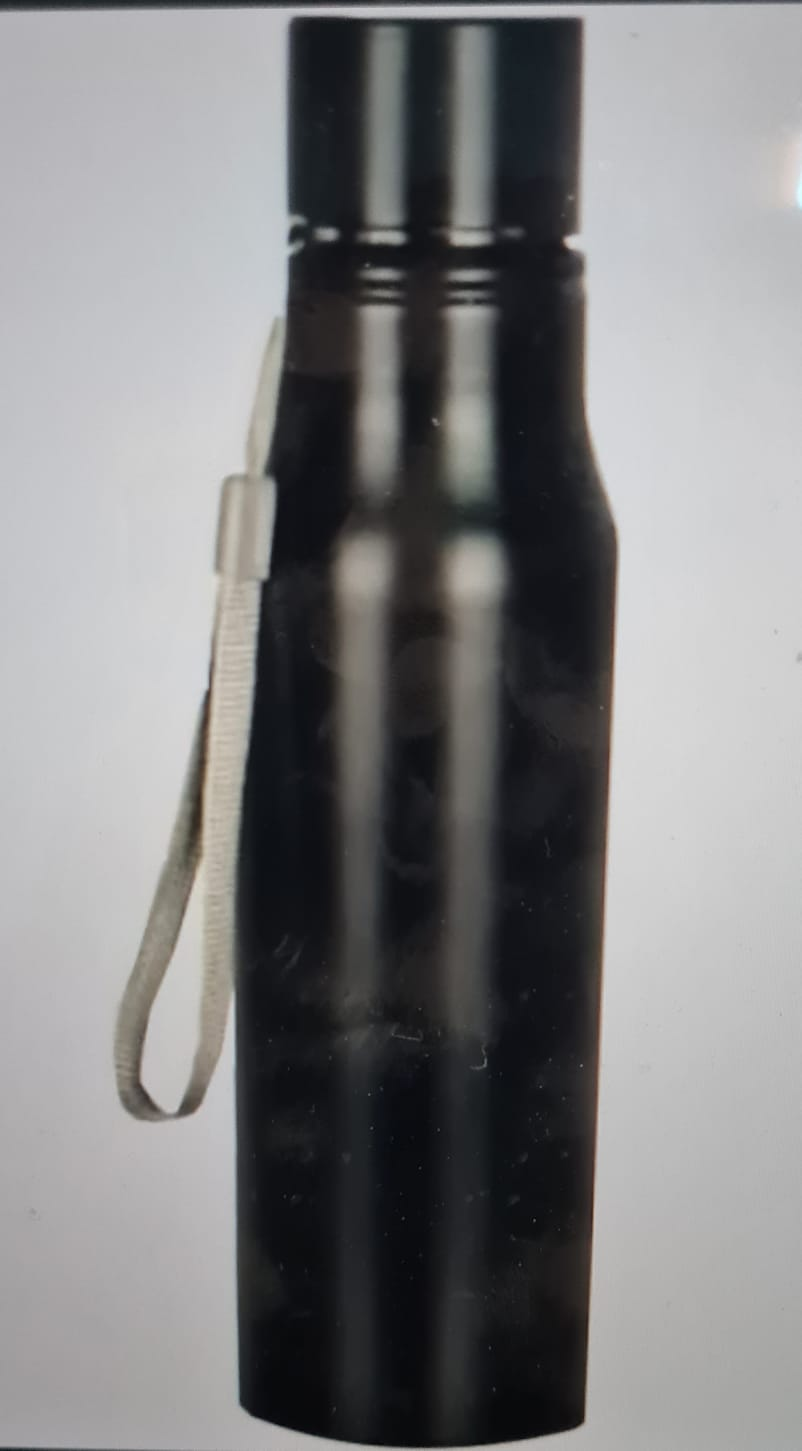bottle: (109, 19, 626, 1445)
